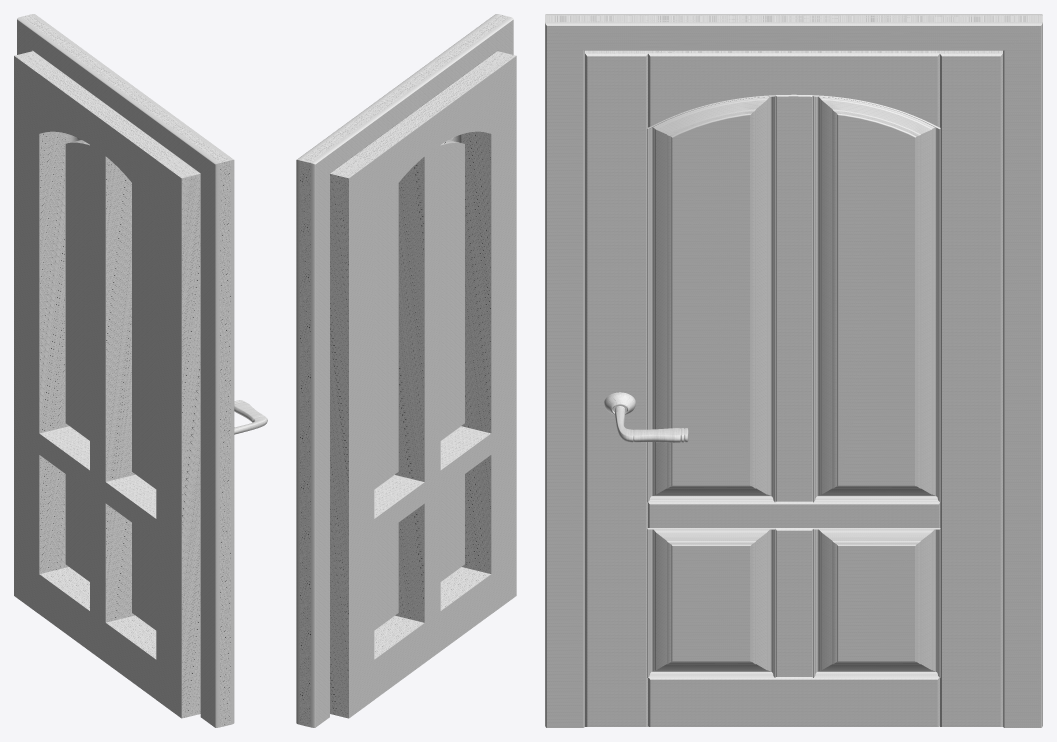
Rendered from puerta.obj.
The picture shows the model from 3 angles, left to right: view 1: azimuth 30°, elevation 25°; view 2: azimuth 150°, elevation 25°; view 3: azimuth 270°, elevation 25°; orthographic projection. The views are drawn at different scales.
Visible parts, largest first — view 1: frise11_z_:frise11_z_; view 2: frise11_z_:frise11_z_; view 3: frise11_z_:frise11_z_.
Part boxes in pixels (x1,y1,x2,y2): frise11_z_:frise11_z_: (14,14,267,727); frise11_z_:frise11_z_: (296,14,516,727); frise11_z_:frise11_z_: (545,14,1042,727).
Bounding box in the file's own units: 5.14 × 26.62 × 17.07.
1 material, 1 textured.
